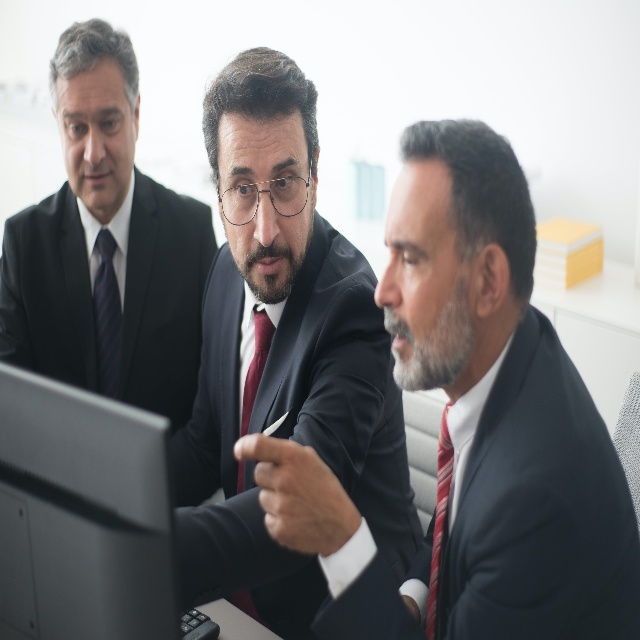Gafas: (214, 156, 315, 227)
Sin_guantes: (234, 428, 346, 554)
